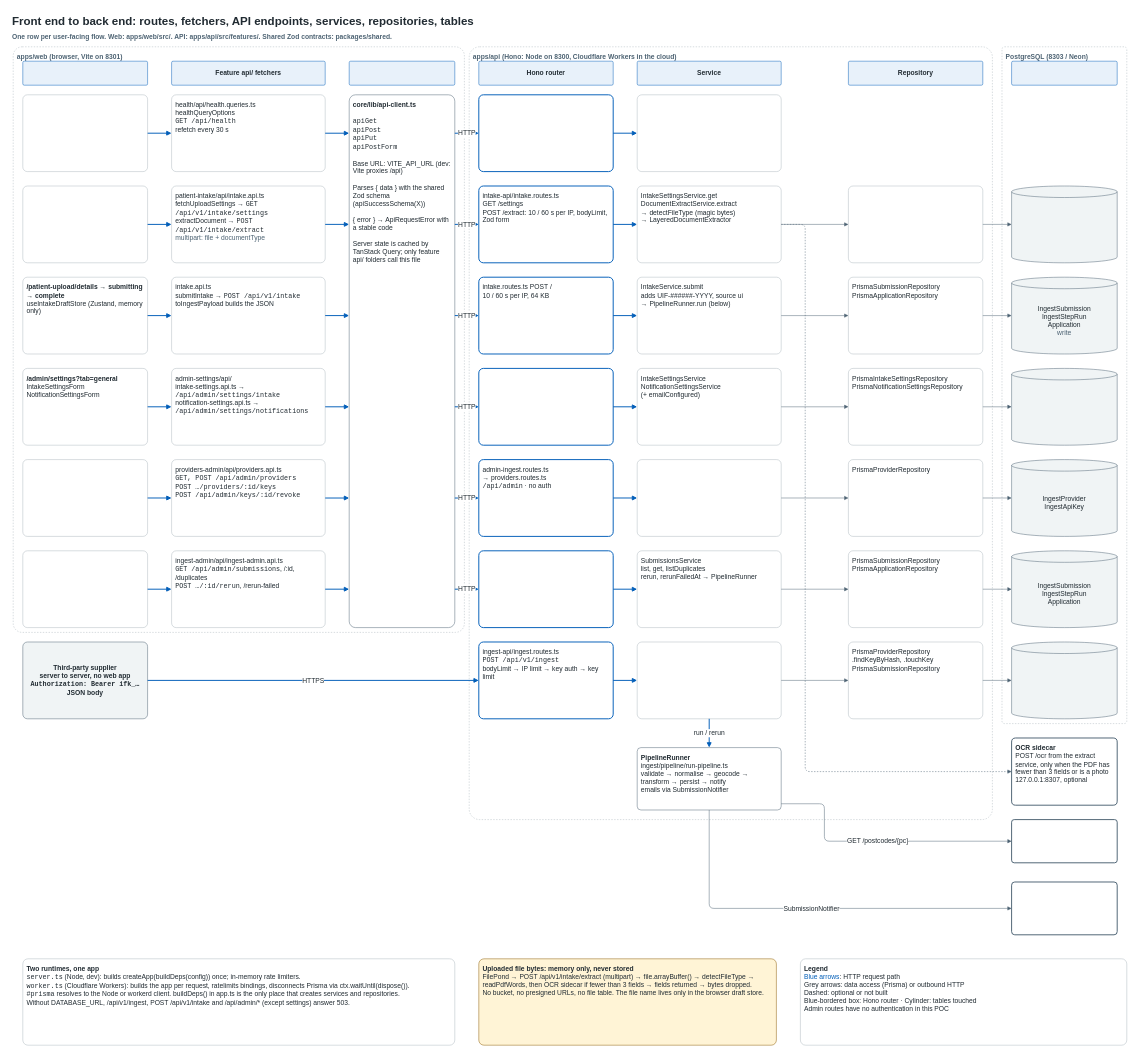
This 1135x1054 diagram has some shape labels left out. Each missing label, with the box of its shape:
/admin/settings?tab=ingested | duplicates IngestedFormsTab DuplicatesTab: (22, 550, 148, 628)
/admin/settings?tab=providers ProvidersTab new key shown once in a dialog: (22, 459, 148, 536)
/patient-upload/document DocumentStep (FilePond) guard: requireIntakeDraft: (22, 186, 148, 263)
api-client: (349, 61, 455, 85)
ApiKeyAuthService.authenticate IngestService.receive → PipelineRunner.run: (637, 642, 781, 719)
Every page header ApiStatus pill (PatientLayout, AdminLayout): (22, 94, 148, 172)
health.routes.ts /api/health: (478, 94, 613, 172)
HealthService.getStatus() liveness, no DB access: (637, 94, 781, 172)
IngestApiKey IngestSubmission IngestStepRun Application: (1011, 642, 1117, 719)
intake-settings.routes.ts notification-settings.routes.ts GET, PUT · no auth: (478, 368, 613, 445)
IntakeSettings NotificationSettings: (1011, 368, 1117, 445)
IntakeSettings read: (1011, 186, 1117, 263)
postcodes.io geocode step: (1011, 819, 1117, 863)
PrismaIntakeSettingsRepository .find: (848, 186, 983, 263)
ProvidersService list, create, createKey (ifk_ key, SHA-256 hash), revokeKey: (637, 459, 781, 536)
Resend POST /emails: success and failure emails (FEAT-003): (1011, 881, 1117, 935)
submissions.routes.ts /api/admin/submissions · no auth: (478, 550, 613, 628)
Tables: (1011, 61, 1117, 85)
Web route: (22, 61, 148, 85)
